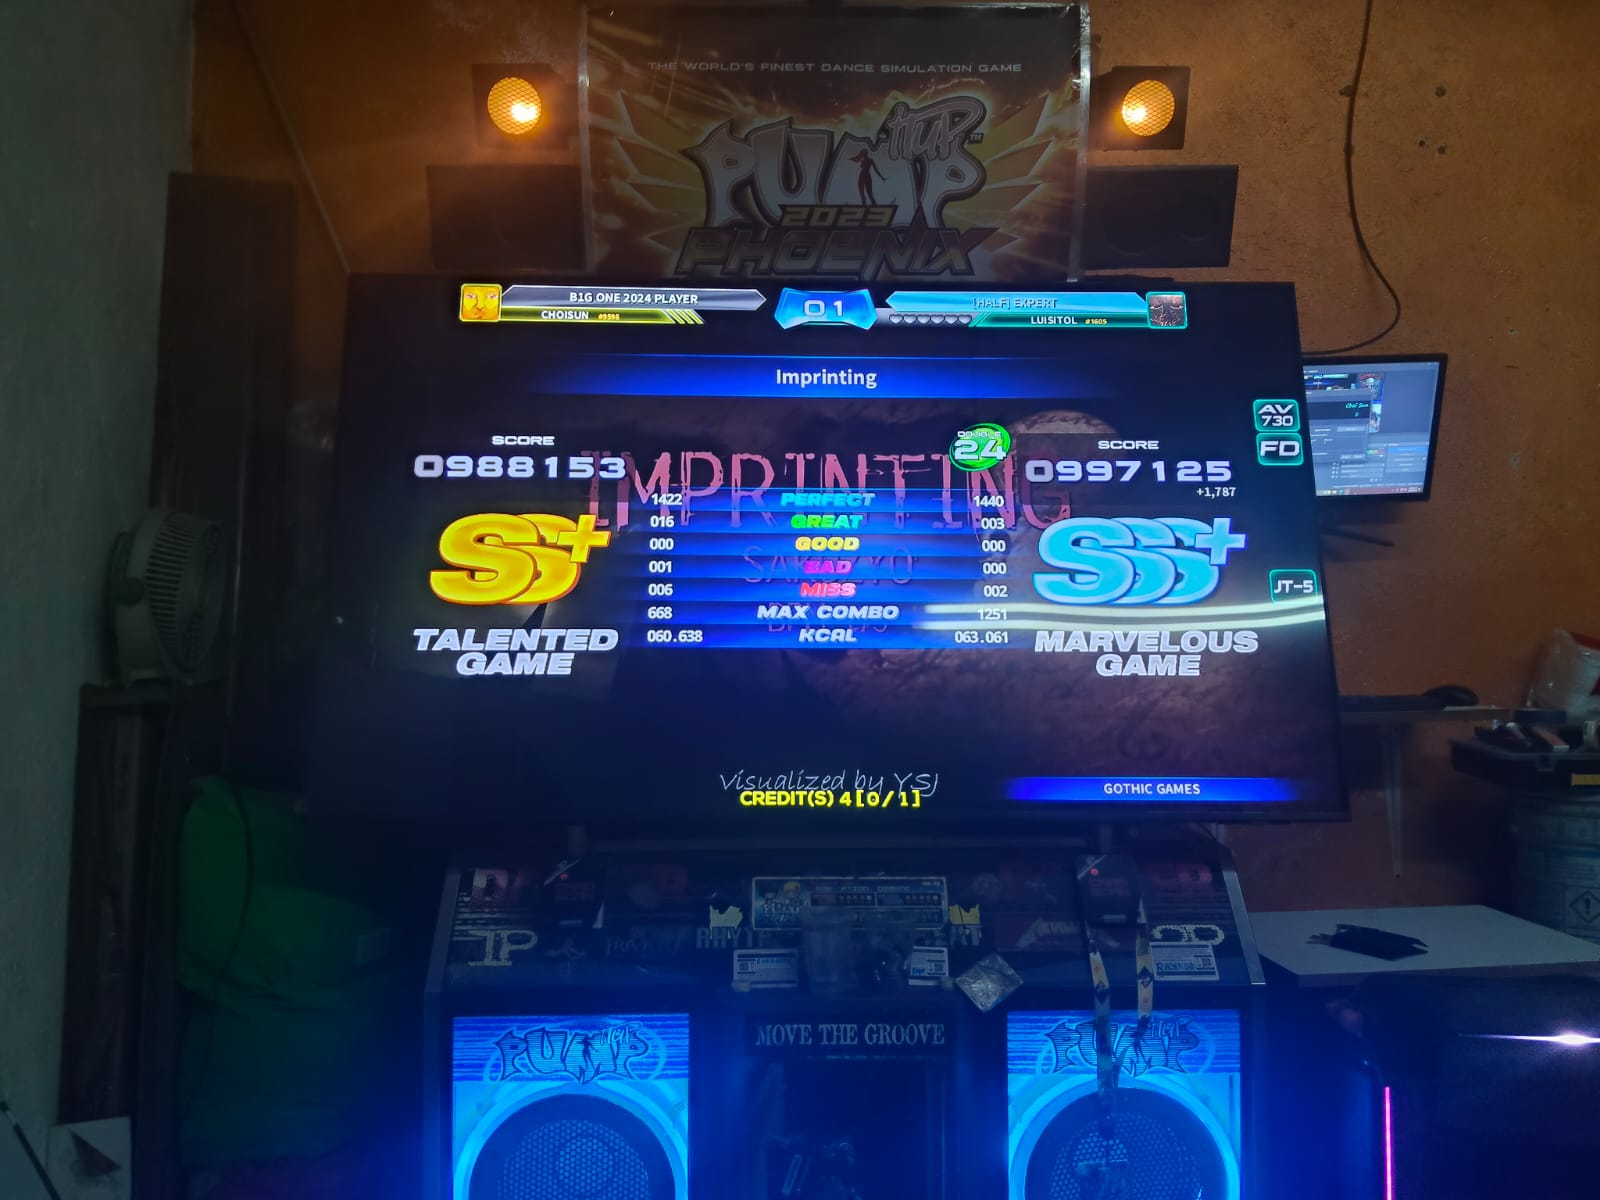difficulty: (918, 427, 1012, 480)
fullscore: (726, 300, 1357, 831)
rank: (1031, 497, 1261, 620)
score: (1009, 431, 1243, 493)
song_name: (640, 344, 1012, 400)
